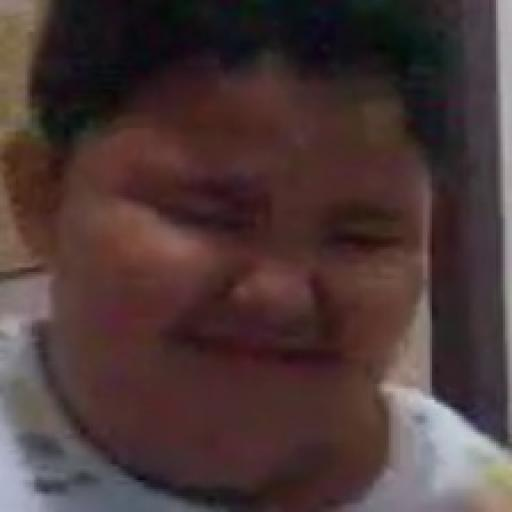Autism: (36, 2, 447, 512)
